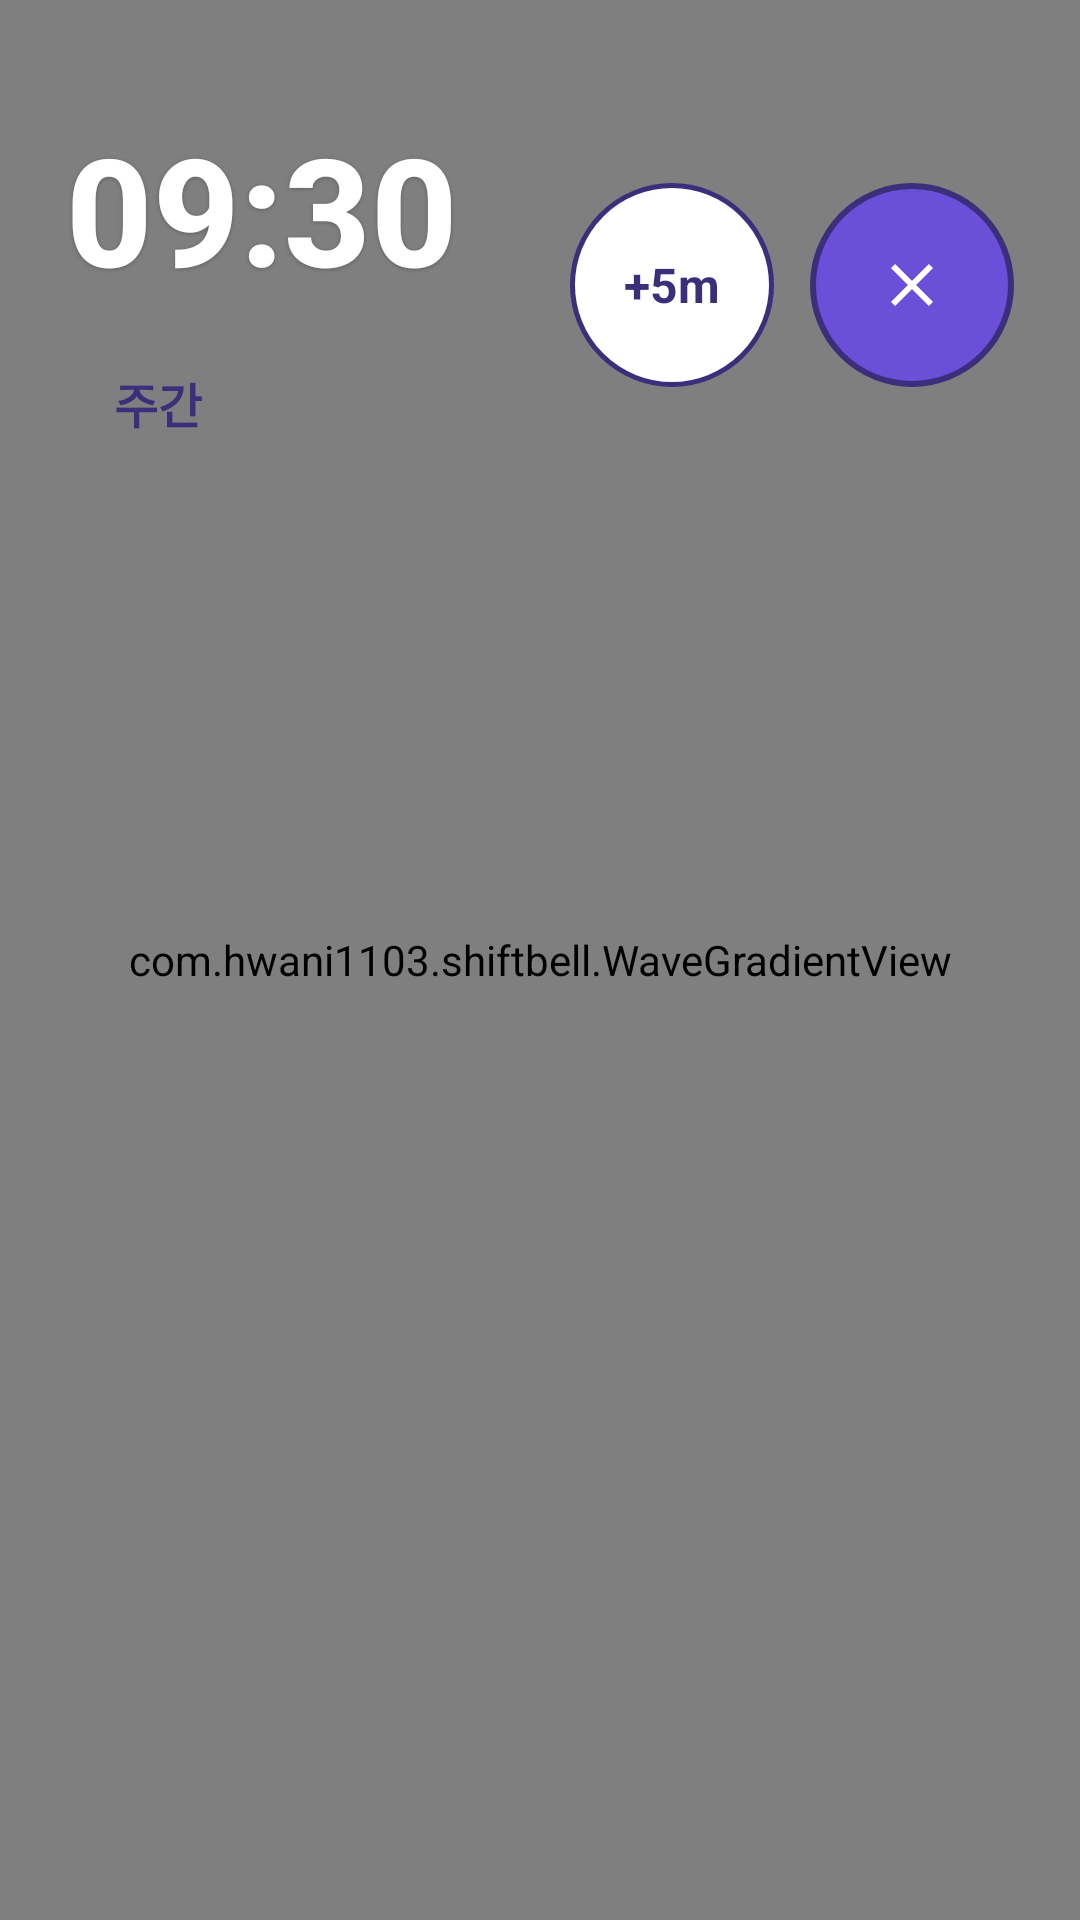

Where to tap for icons on this 1080*1920 app screen, as (x=x, y=y):
close: (x=912, y=285)
